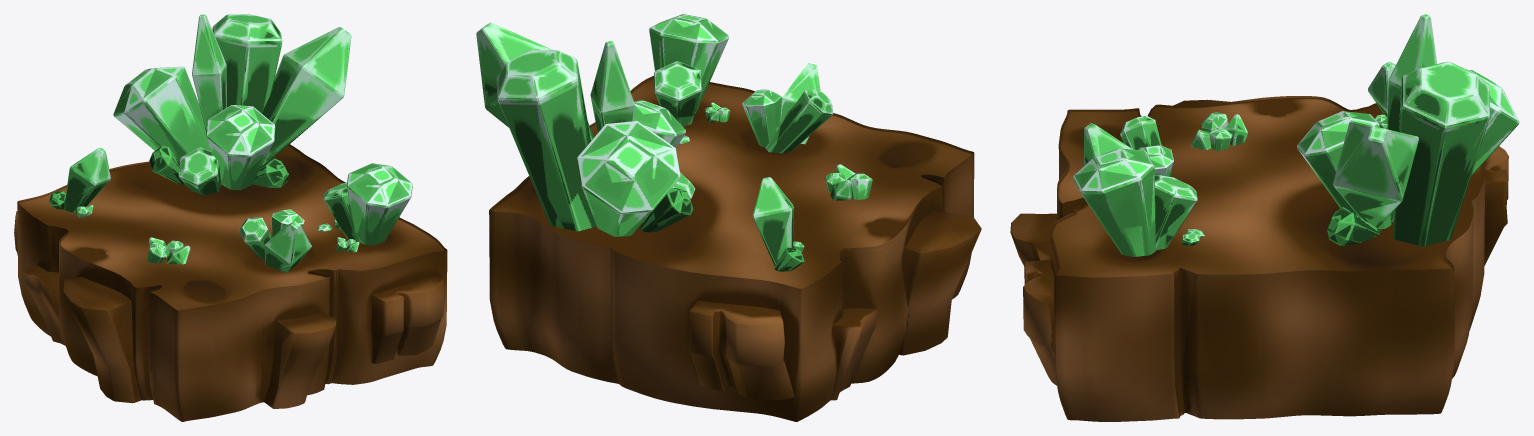
Rendered from land-X.glb.
3 renders of one model, left to right at view 1: azimuth 30°, elevation 25°; view 2: azimuth 150°, elevation 25°; view 3: azimuth 270°, elevation 25°, orthographic. The views are drawn at different scales.
Visible parts, largest first — view 1: Land; view 2: Land; view 3: Land.
Part boxes in pixels (x1=…): Land: x1=14, y1=14, x2=447, y2=421; Land: x1=476, y1=14, x2=981, y2=421; Land: x1=1010, y1=14, x2=1519, y2=421.
Bounding box in the file's own units: 9.5 × 7.13 × 9.46.
1 material, 1 textured.
